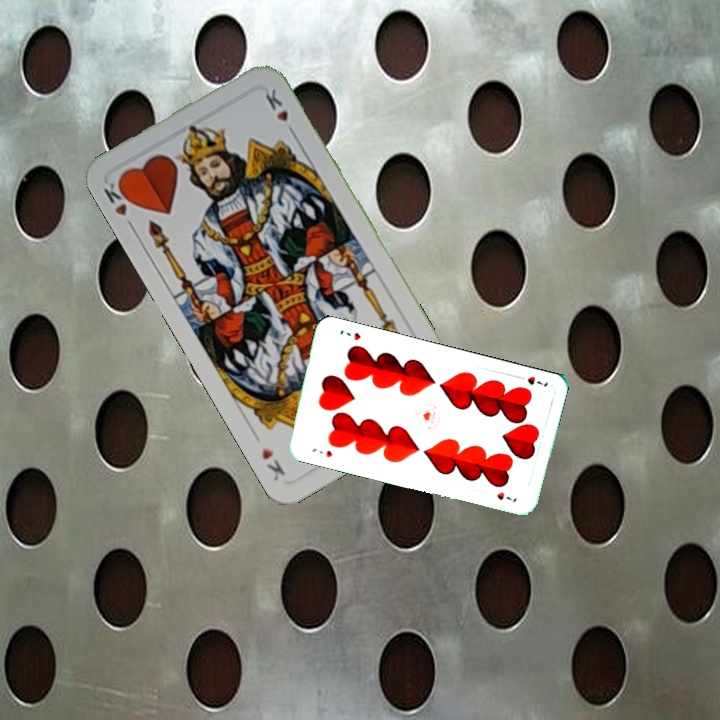H7: (512, 372, 551, 390), (308, 444, 335, 460)
HK: (99, 175, 137, 219)
